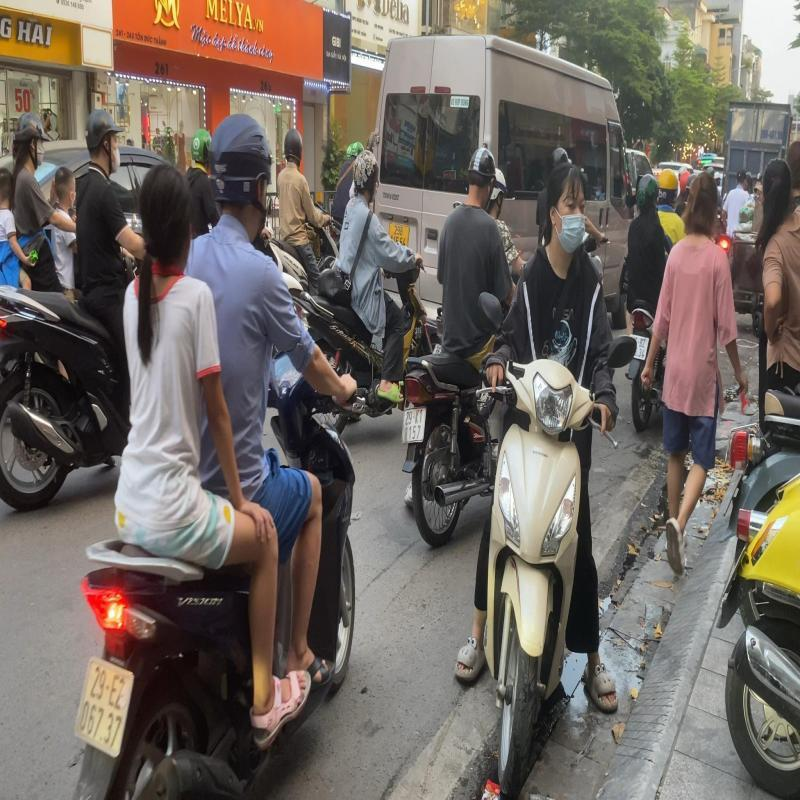nohelmet: (136, 155, 197, 278)
